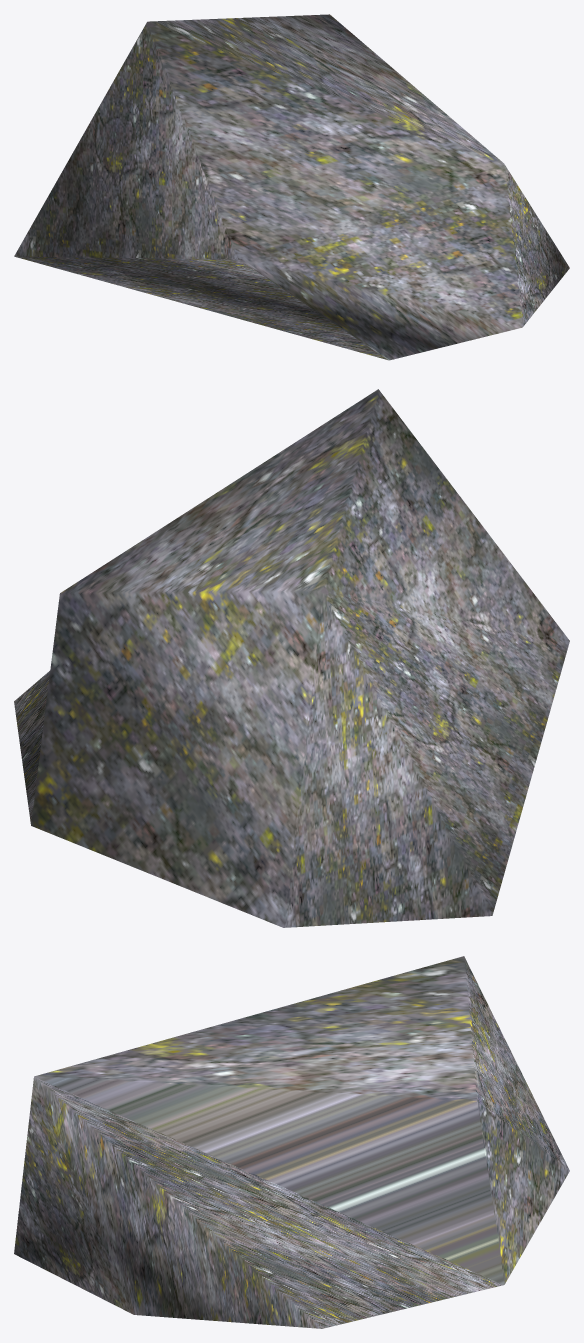
File: rock_weatheredmossy_large_a1_l2.fbx
3 renders of one model, top to bottom at view 1: azimuth 30°, elevation 25°; view 2: azimuth 150°, elevation 25°; view 3: azimuth 270°, elevation 25°, orthographic. The views are drawn at different scales.
Parts seen in each view (by area): view 1: mesh_node; view 2: mesh_node; view 3: mesh_node.
Boxes of the visible parts, x1,y1,x2,y2 form: mesh_node: (14, 14, 569, 360); mesh_node: (14, 389, 569, 927); mesh_node: (14, 956, 569, 1328).
Size of the model in its own units: 0.7459 by 0.3509 by 0.7844.
1 material, 1 textured.
